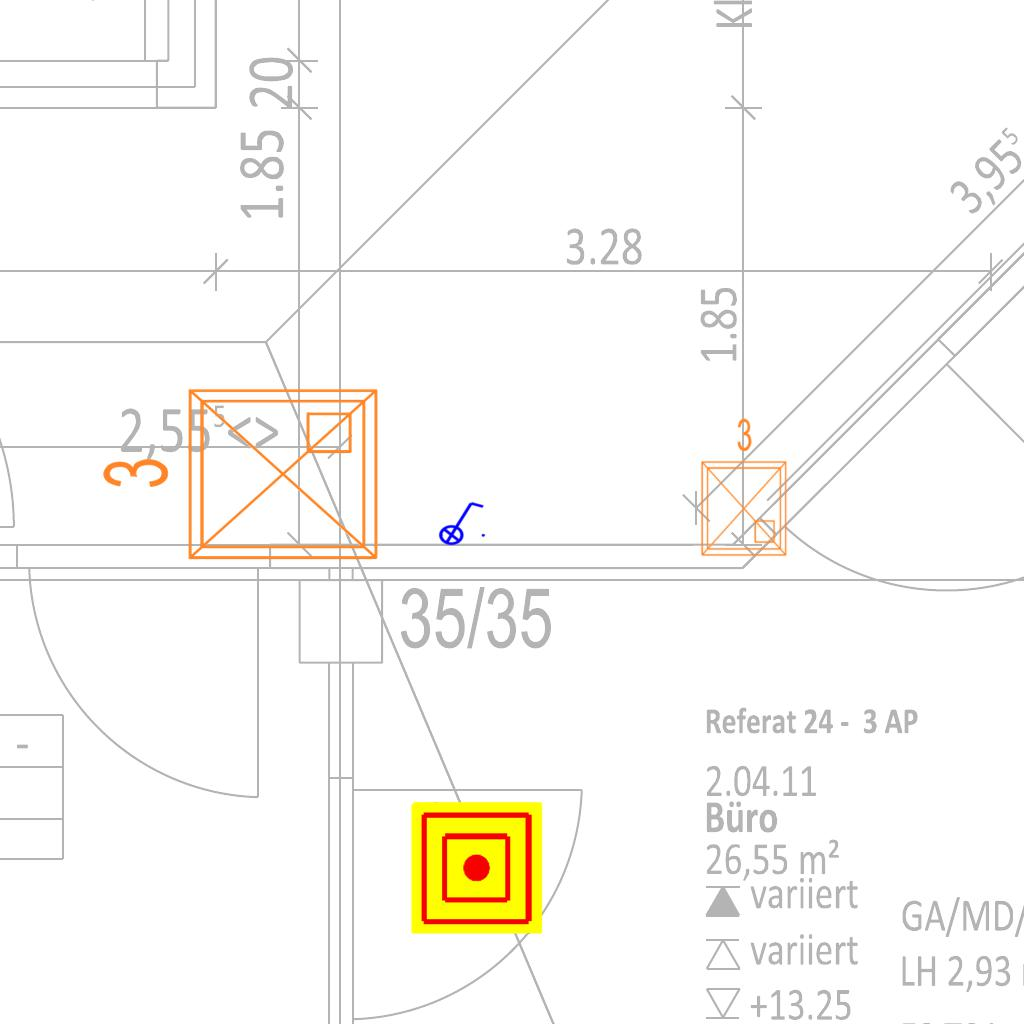Ausschalter_beleuchtet: (432, 498, 488, 546)
Einbaudownlights_LED_Konferenzraeume: (92, 374, 392, 582), (690, 413, 794, 563)
NAM-Nichtautomatischer_Melder: (411, 802, 543, 934)
